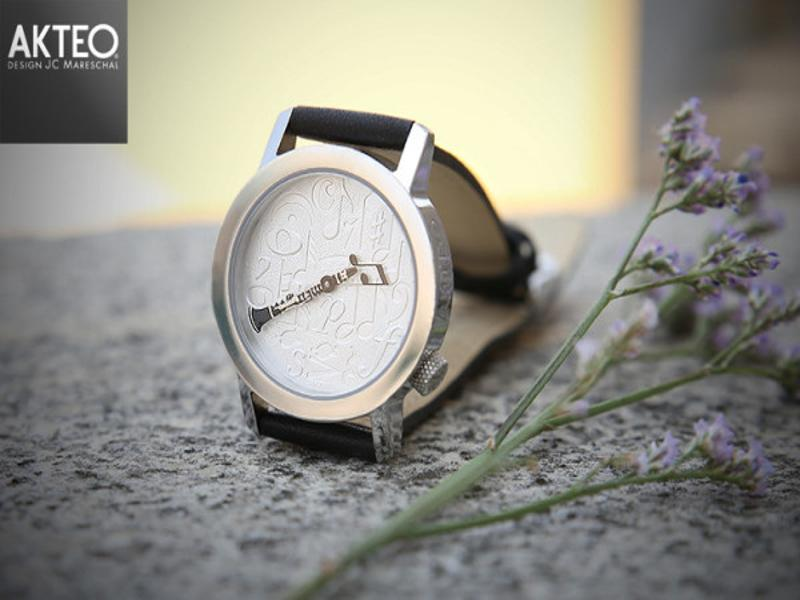watch: (204, 100, 542, 462)
